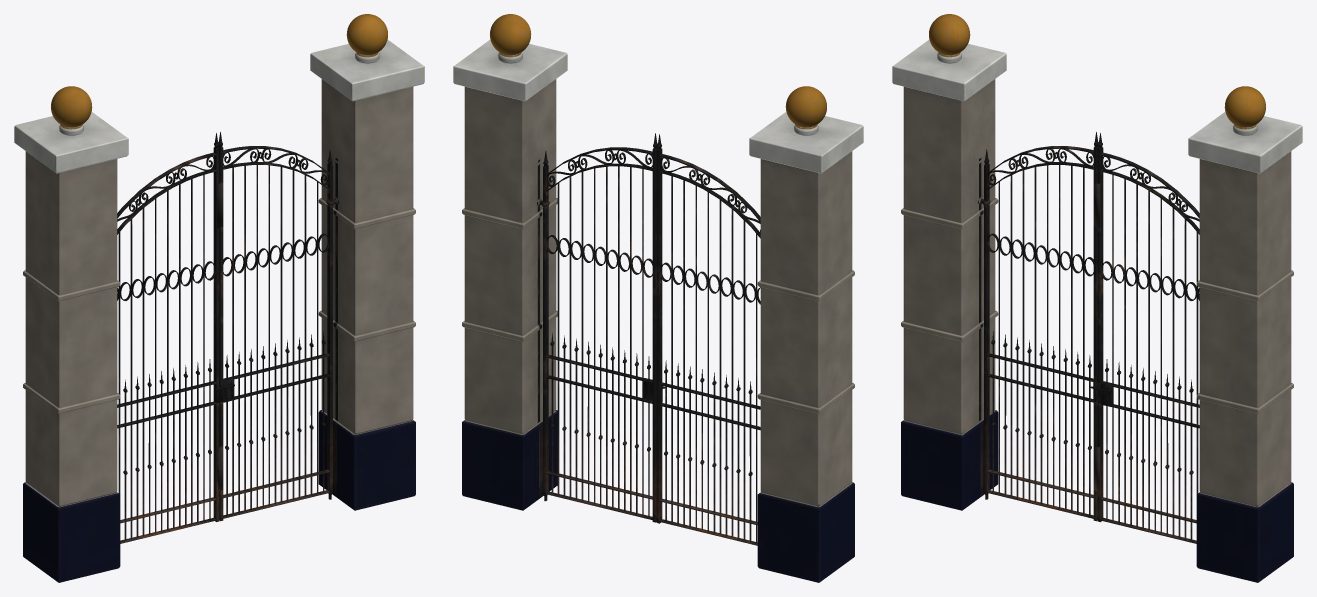
File: iron_gate.glb
3 views of the same model, side by side, from view 1: azimuth 30°, elevation 25°; view 2: azimuth 150°, elevation 25°; view 3: azimuth 330°, elevation 25° (orthographic).
Visible parts, largest first — view 1: iron_gate; view 2: iron_gate; view 3: iron_gate.
Part boxes in pixels (x1,y1,x2,y2): iron_gate: [14, 14, 424, 582]; iron_gate: [453, 14, 863, 582]; iron_gate: [892, 14, 1302, 582].
Bounding box in the file's own units: 2.06 × 2.53 × 0.41.
Materials: 2 (2 with a texture image).
